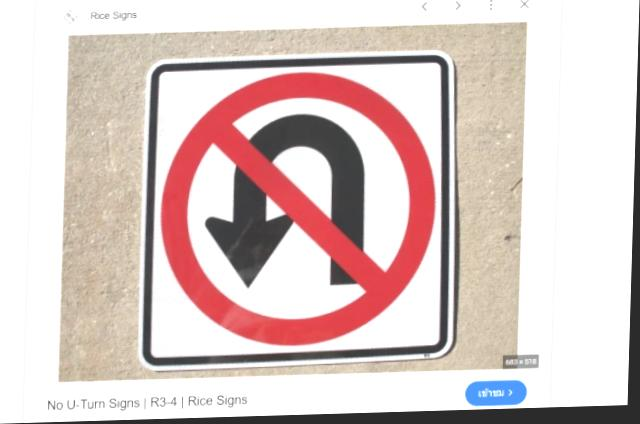not_u_turn_left: (161, 63, 449, 353)
